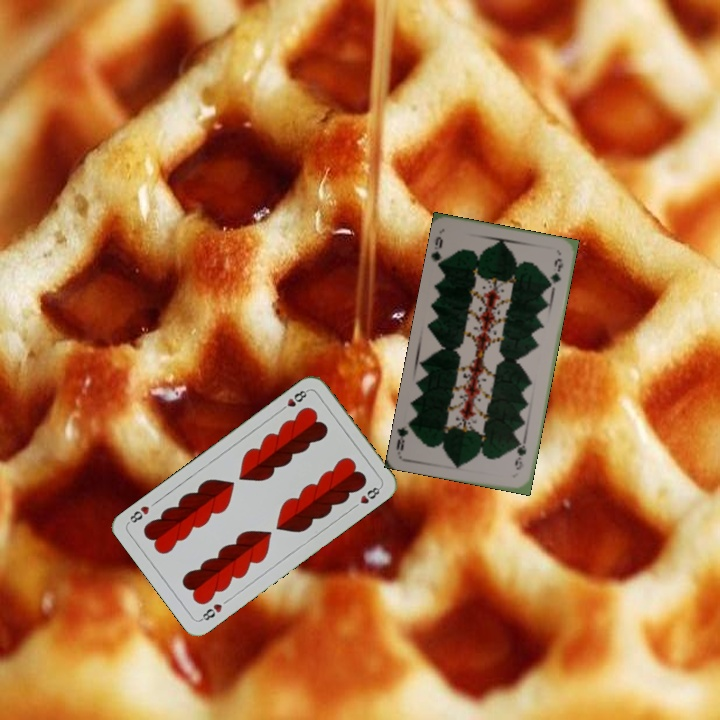G9: (428, 232, 448, 270), (511, 436, 529, 472)
H8: (276, 386, 311, 414), (196, 599, 225, 624)
